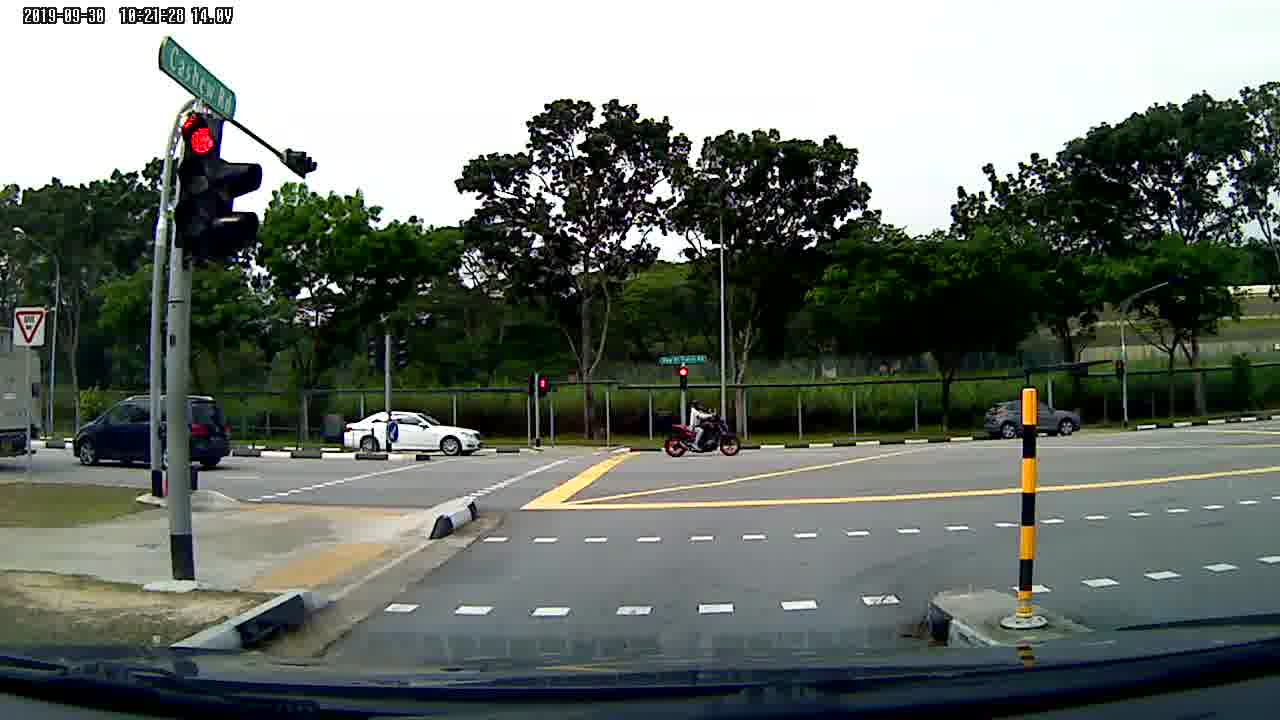car: (70, 392, 234, 466), (342, 407, 486, 453), (978, 399, 1082, 438)
